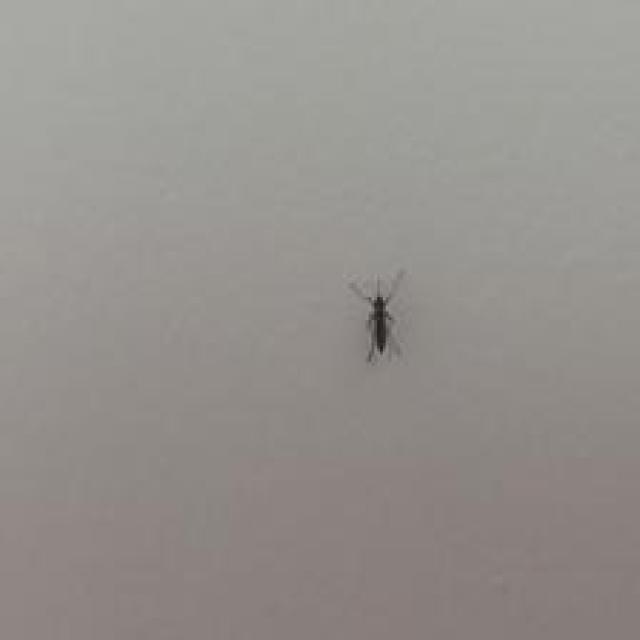Aedes albopictus: (347, 267, 407, 364)
